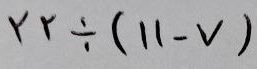character: (71, 16, 100, 52), (112, 11, 131, 58), (196, 20, 227, 47), (8, 10, 30, 46), (238, 13, 250, 64), (40, 14, 57, 41), (139, 21, 152, 53), (155, 19, 166, 49), (173, 36, 197, 46)
